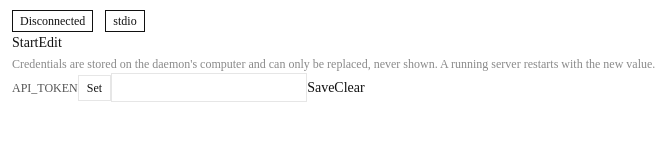
Scenario: McpServerControls › a set credential can be cleared, and shows only that it is set
The image size is (672, 160).
Check: the text "Set" is shown, box top-left (78, 75), bottom-right (111, 101)
Click the button "Clear". click: [349, 88]
box: top-left (334, 77), bottom-right (365, 98)
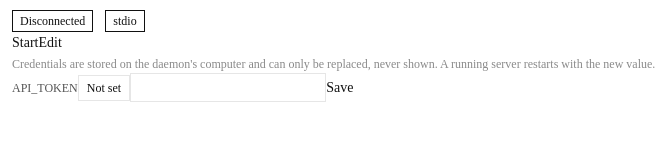
Check: the text "Not set" is shown, box top-left (78, 75), bottom-right (130, 101)
